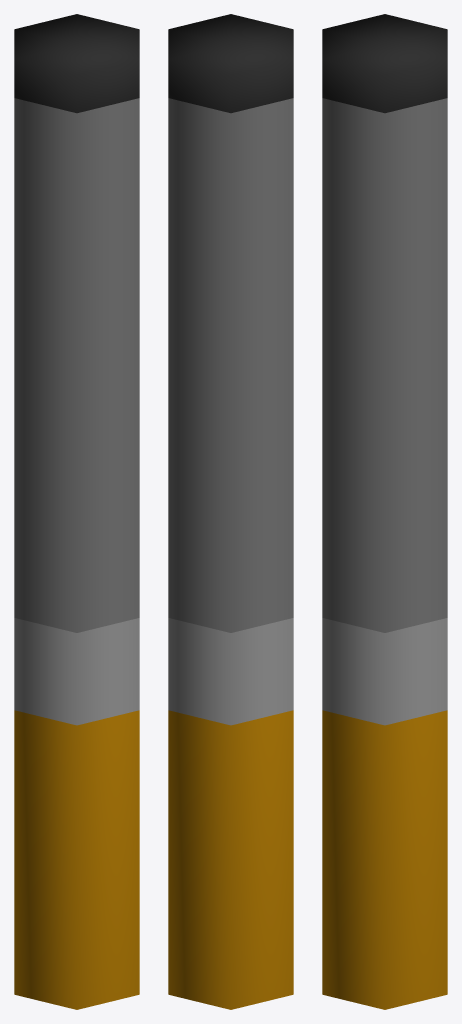
The model's file is SM_Cigarette.fbx.
3 renders of one model, left to right at view 1: azimuth 90°, elevation 25°; view 2: azimuth 150°, elevation 25°; view 3: azimuth 330°, elevation 25°, orthographic.
Visible parts, largest first — view 1: pCylinder1; view 2: pCylinder1; view 3: pCylinder1.
Boxes of the visible parts, x1,y1,x2,y2 form: pCylinder1: (14,14,139,1009); pCylinder1: (168,14,293,1009); pCylinder1: (322,14,447,1009).
Bounding box in the file's own units: 2 × 14.27 × 1.73.
